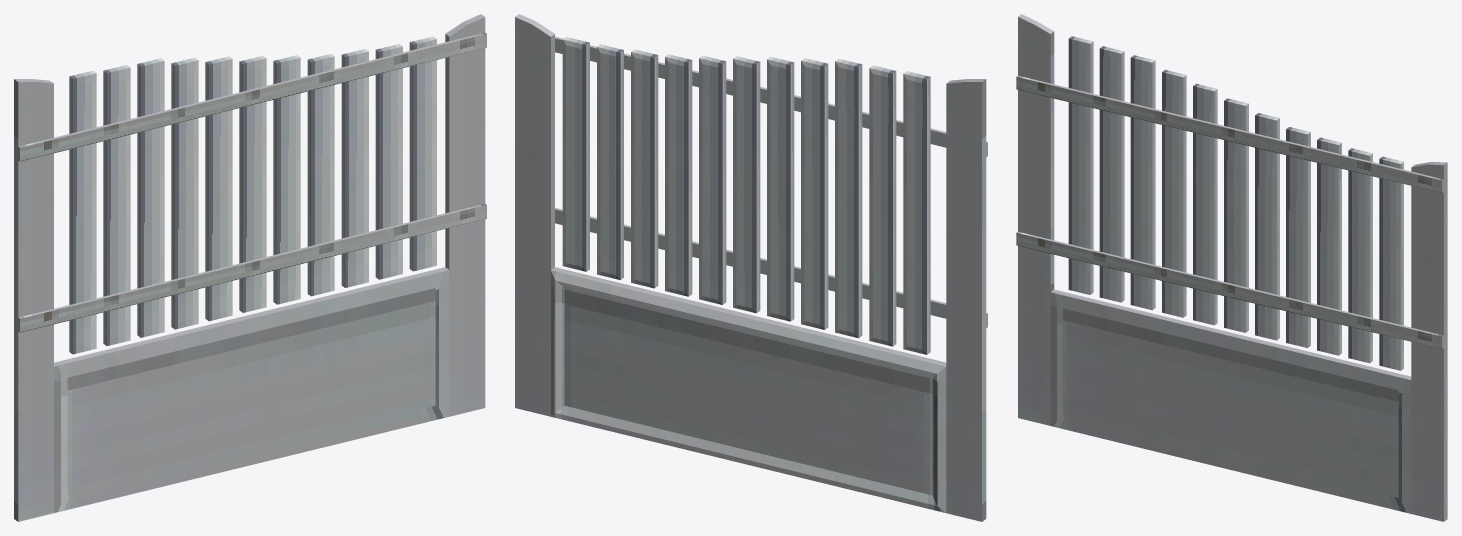
File: plastic_gate_left.glb
3 renders of one model, left to right at view 1: azimuth 30°, elevation 25°; view 2: azimuth 150°, elevation 25°; view 3: azimuth 330°, elevation 25°, orthographic. The views are drawn at different scales.
Visible parts, largest first — view 1: plastic_gate_left; view 2: plastic_gate_left; view 3: plastic_gate_left.
Part boxes in pixels (x1,y1,x2,y2): plastic_gate_left: [14, 14, 486, 521]; plastic_gate_left: [515, 14, 987, 521]; plastic_gate_left: [1016, 14, 1447, 521].
Bounding box in the file's own units: 2 × 1.8 × 0.0605.
1 material, 1 textured.
